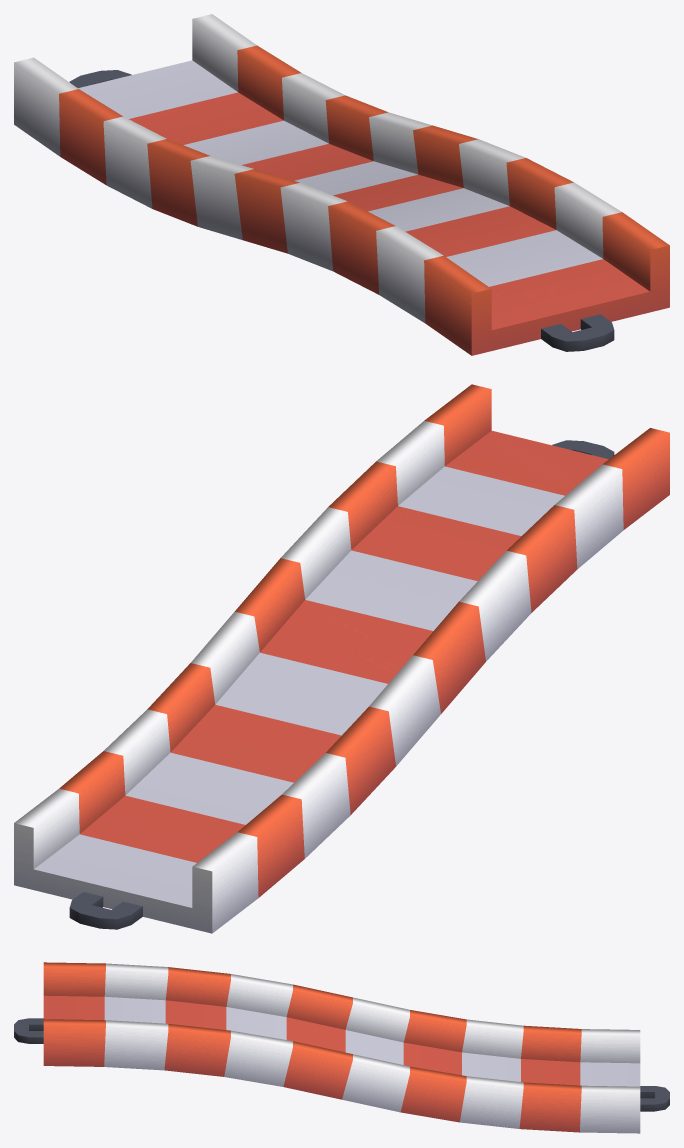
Rendered from track-striped-narrow-straight-hill-complete-half.glb.
The picture shows the model from 3 angles, top to bottom: view 1: azimuth 30°, elevation 25°; view 2: azimuth 150°, elevation 25°; view 3: azimuth 270°, elevation 25°; orthographic projection. The views are drawn at different scales.
Parts seen in each view (by area): view 1: track-striped-narrow-straight-hill-complete-half; view 2: track-striped-narrow-straight-hill-complete-half; view 3: track-striped-narrow-straight-hill-complete-half.
Boxes of the visible parts, <box> form: track-striped-narrow-straight-hill-complete-half: <box>14,14,669,355</box>; track-striped-narrow-straight-hill-complete-half: <box>14,384,669,933</box>; track-striped-narrow-straight-hill-complete-half: <box>14,962,669,1133</box>.
Bounding box in the file's own units: 3 × 2.4 × 13.2.
1 material, 1 textured.
